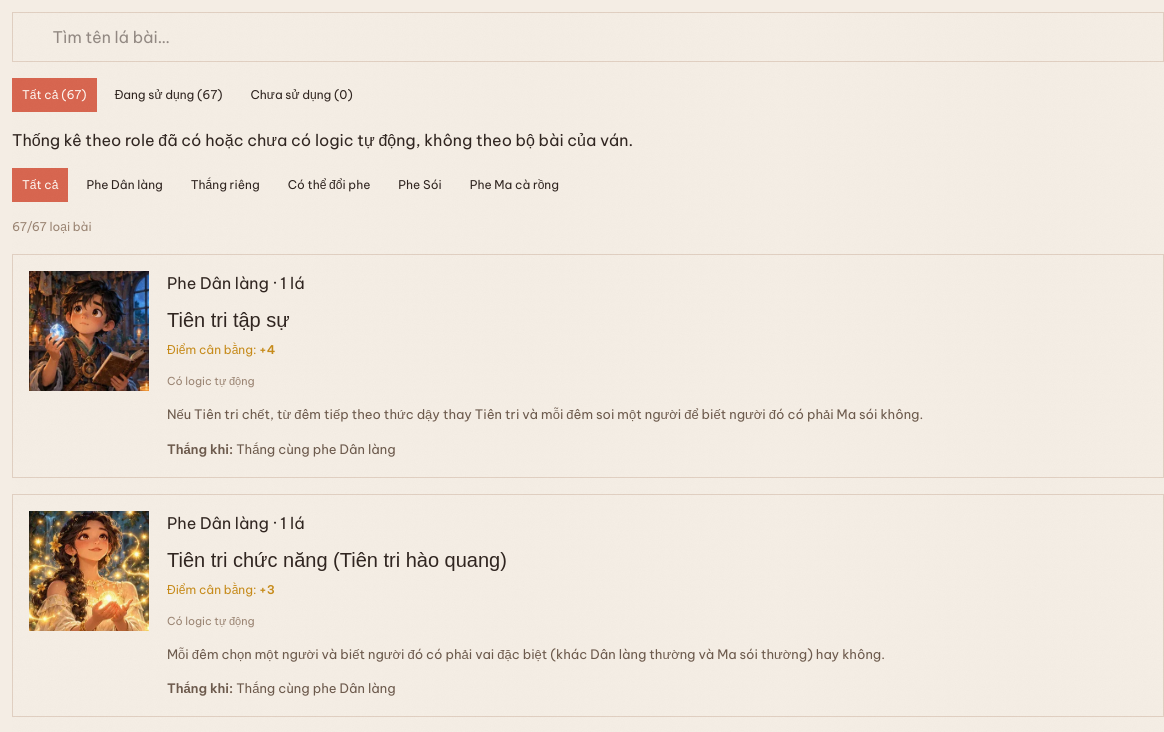
Test: hides utility cards and combines accent-insensitive search with faction filtering
Type "ĐƠN ĐỘC" into the search field with placeholder "Tìm tên lá bài…" at (602, 37), box x1=53 y1=13 x2=1151 y2=61
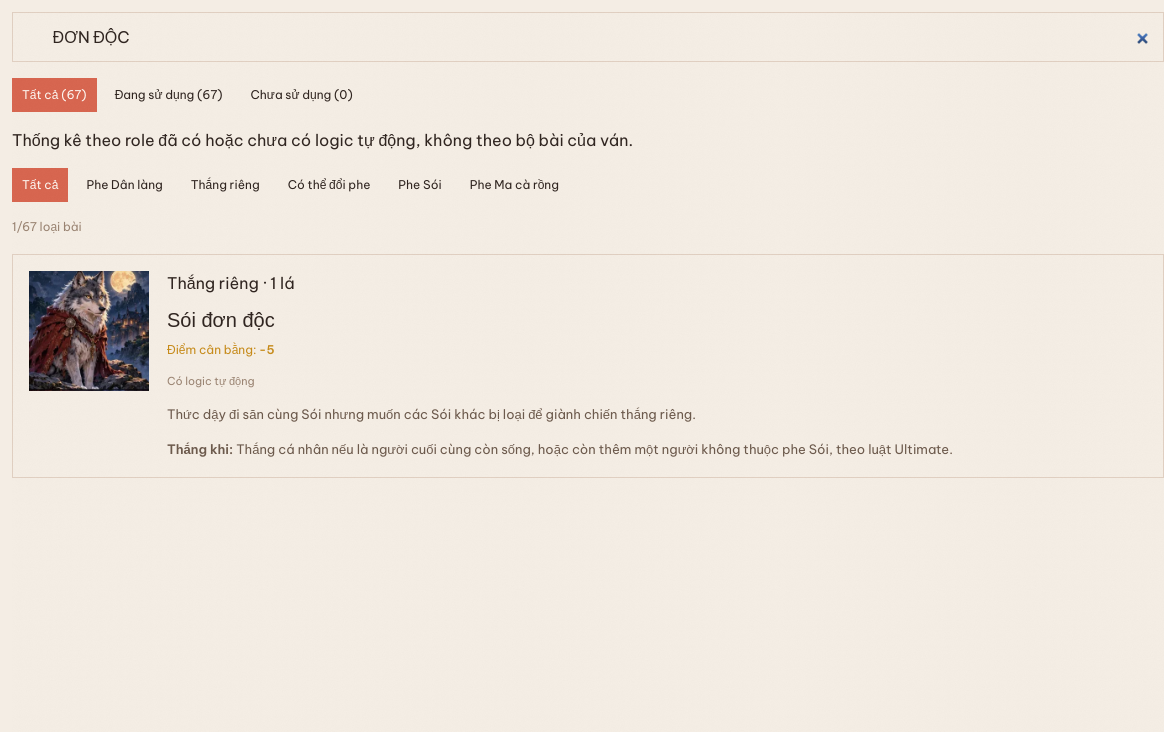
Expected: the heading "Sói đơn độc" is shown, x1=167 y1=309 x2=275 y2=331
Expected: the number of elements with class "library-card" is 1, x1=12 y1=254 x2=1163 y2=478
Click the button "Phe Dân làng" at (125, 185), box x1=76 y1=168 x2=173 y2=202
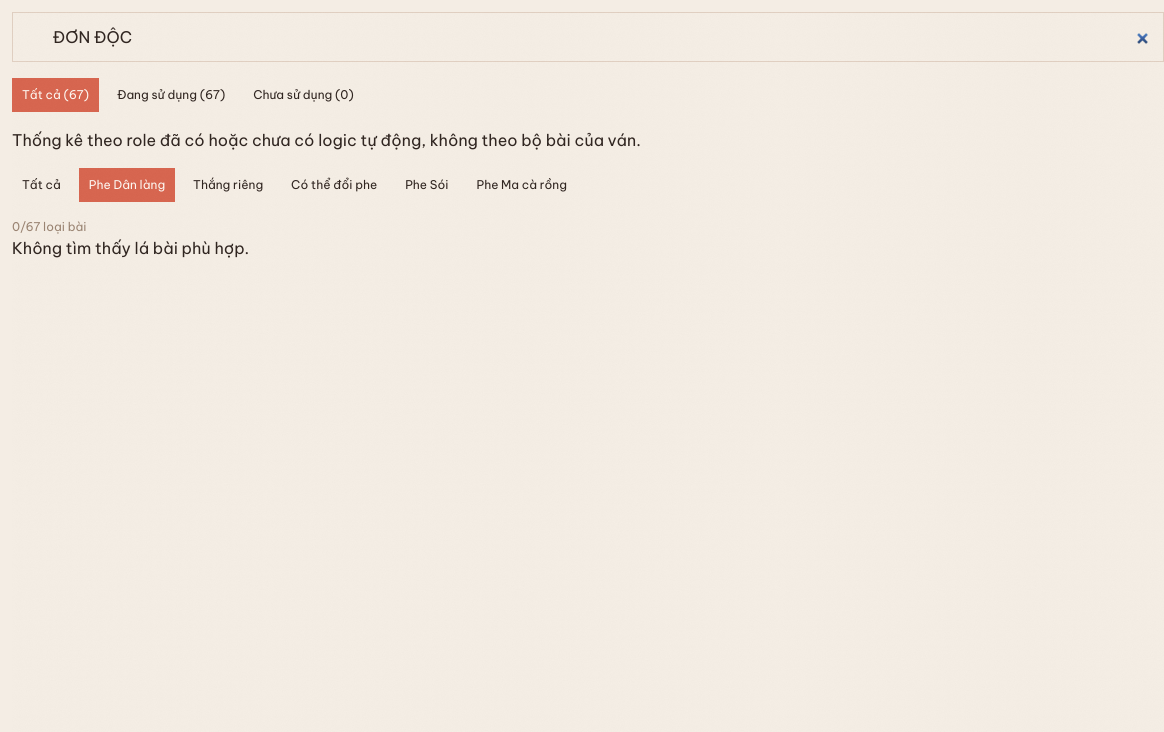
Expected: no elements with class "library-card" are shown
Expected: the message "Không tìm thấy lá bài phù hợp." is shown, x1=12 y1=238 x2=249 y2=258
